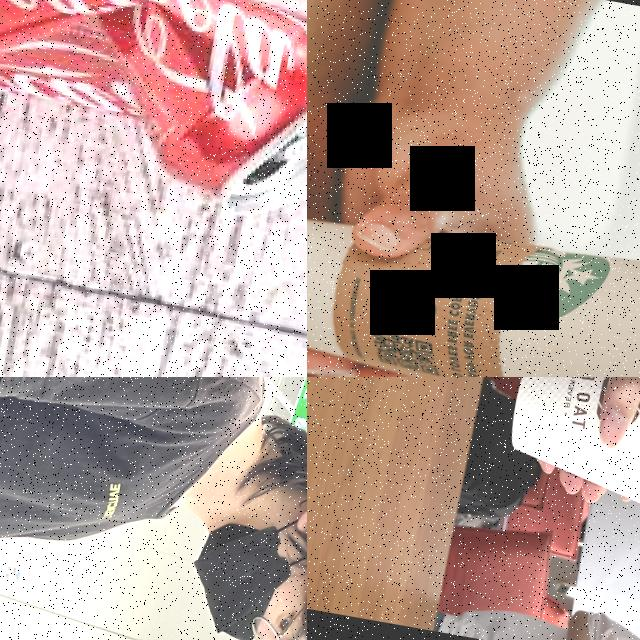cup: (307, 176, 640, 377), (492, 377, 640, 536)
